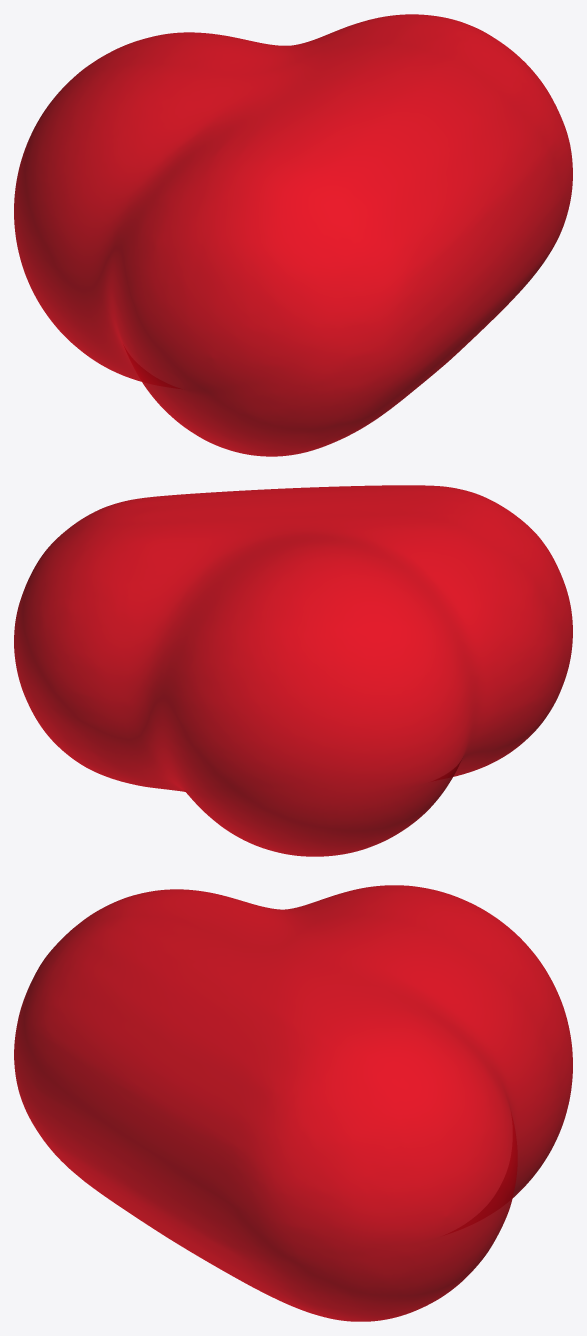
Rendered from Therapeutic protein part 1.fbx.
The picture shows the model from 3 angles, top to bottom: view 1: azimuth 30°, elevation 25°; view 2: azimuth 150°, elevation 25°; view 3: azimuth 270°, elevation 25°; orthographic projection. The views are drawn at different scales.
Visible parts, largest first — view 1: Mball.001; view 2: Mball.001; view 3: Mball.001.
Boxes of the visible parts, left/top/right/bottom form: Mball.001: left=14, top=14, right=572, bottom=456; Mball.001: left=14, top=485, right=572, bottom=856; Mball.001: left=14, top=885, right=572, bottom=1321.
Size of the model in its own units: 185 by 115 by 179.
